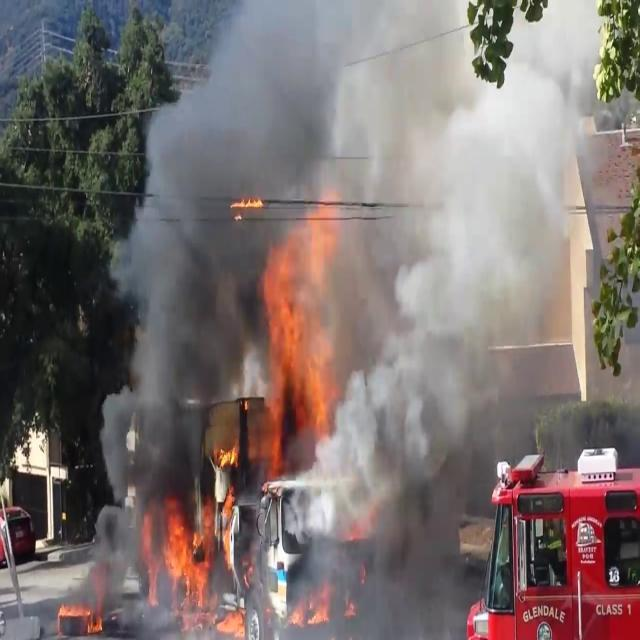Fire: (253, 222, 335, 482), (154, 496, 214, 620), (55, 589, 105, 634)
Smoke: (92, 0, 602, 486)
